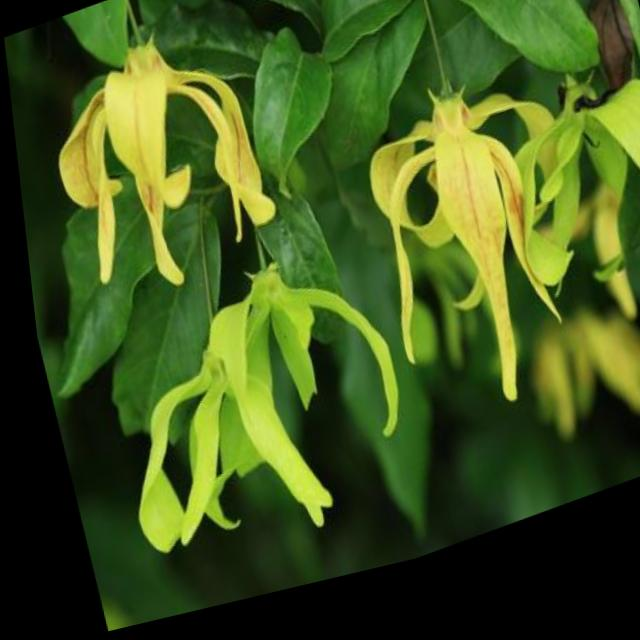Flower: (67, 243, 415, 594), (344, 80, 586, 430), (26, 9, 284, 306), (488, 64, 640, 339)
